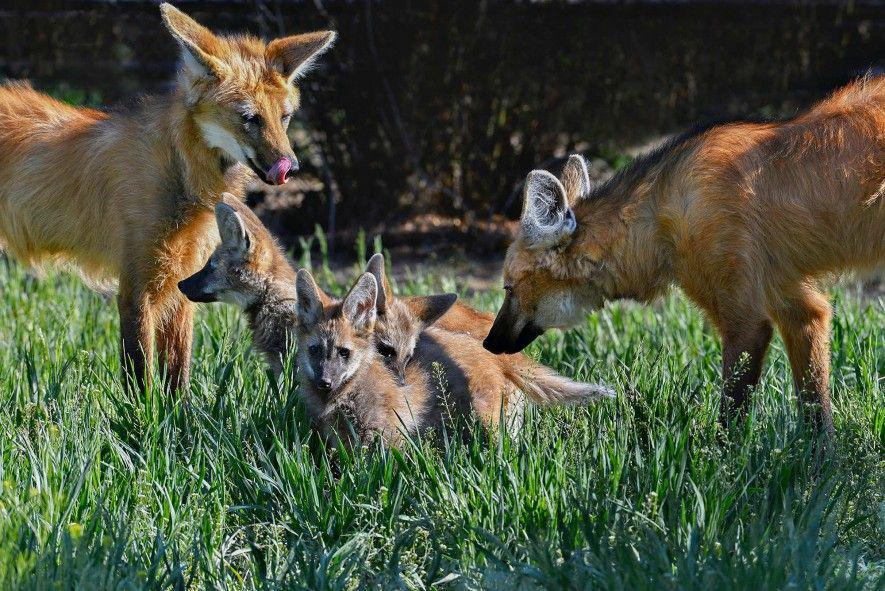LoboGuara: (485, 71, 876, 444), (25, 8, 321, 413), (277, 281, 621, 452), (200, 196, 300, 375), (351, 252, 458, 390)
